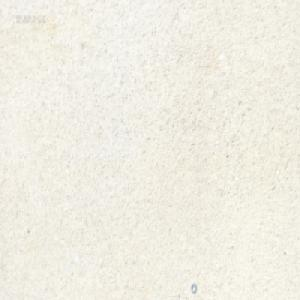Washer: (190, 282, 196, 293)
